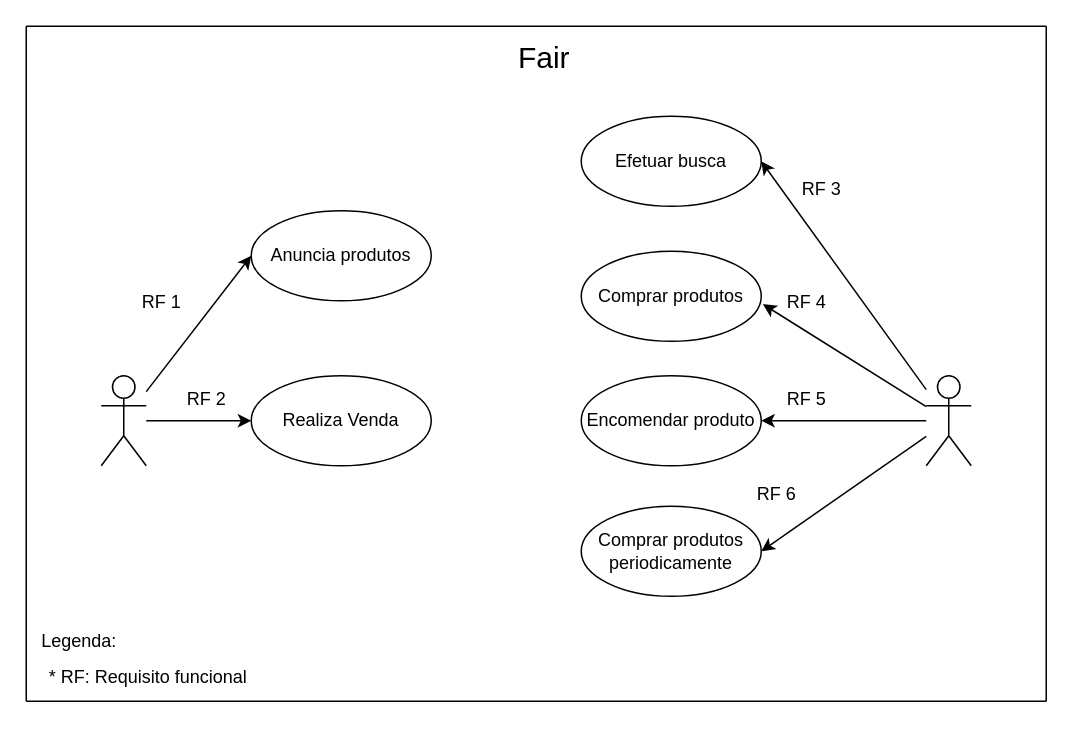
The diagram is 1074 pixels wide and 729 high, and some of its shapes have lost their labels. Each missing label, with the centre of its shape:
Comprador: (x=948, y=420)
Loja: (x=123, y=420)
